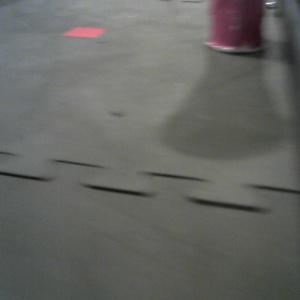Right: (205, 1, 266, 52)
